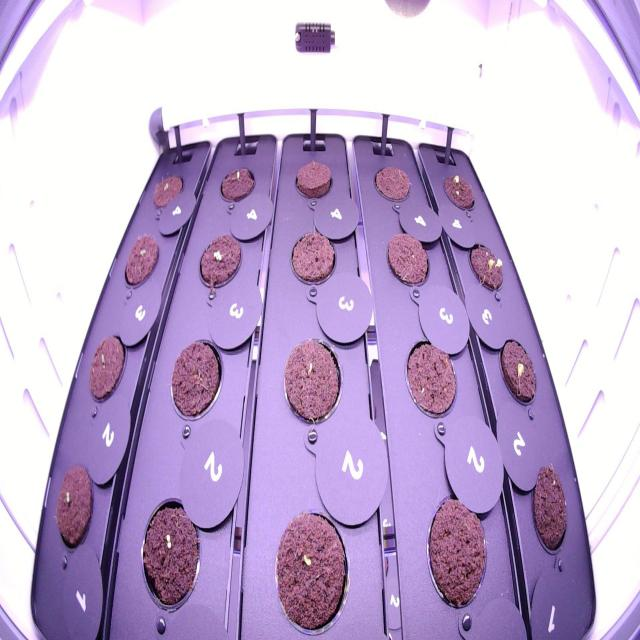germination: (134, 486, 207, 620), (50, 457, 99, 562), (494, 328, 542, 416), (192, 225, 247, 301), (463, 233, 511, 300), (440, 164, 480, 219)
pod: (270, 501, 354, 637), (419, 484, 495, 620), (279, 330, 346, 429), (163, 329, 226, 430), (400, 329, 461, 425), (524, 456, 574, 562), (83, 326, 130, 410), (380, 224, 434, 297), (284, 222, 340, 291), (118, 226, 163, 294), (286, 153, 336, 206), (369, 157, 415, 212), (214, 156, 258, 210), (148, 165, 188, 218)
